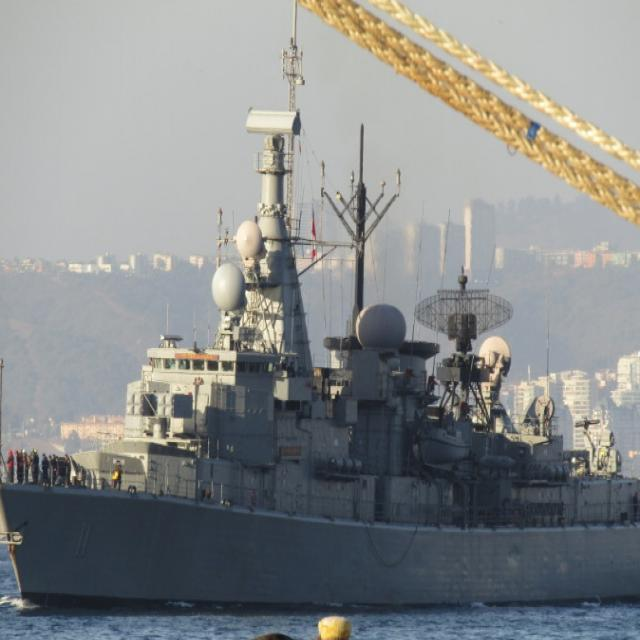Fragata: (1, 105, 640, 622)
